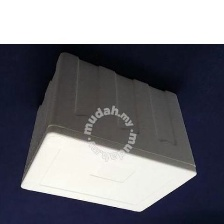foam_box: (17, 49, 202, 215)
